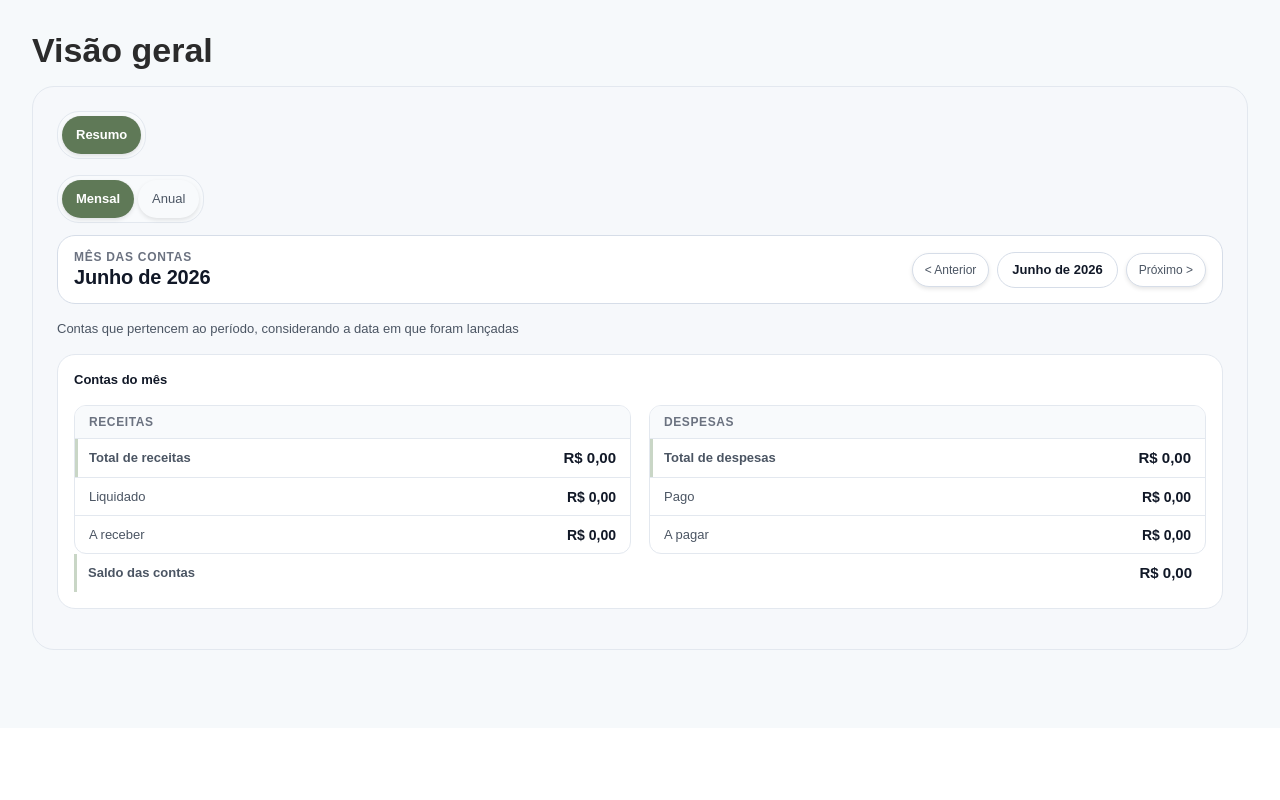
Financeiro - detalhe de receitas por paciente › preserva os períodos mensal e anual ao navegar entre anos
Expected: the heading "Contas do mês" is shown, left=74, top=371, right=167, bottom=389
Step 1. Click the button "Próximo >" → click(1166, 270), box left=1126, top=252, right=1206, bottom=286
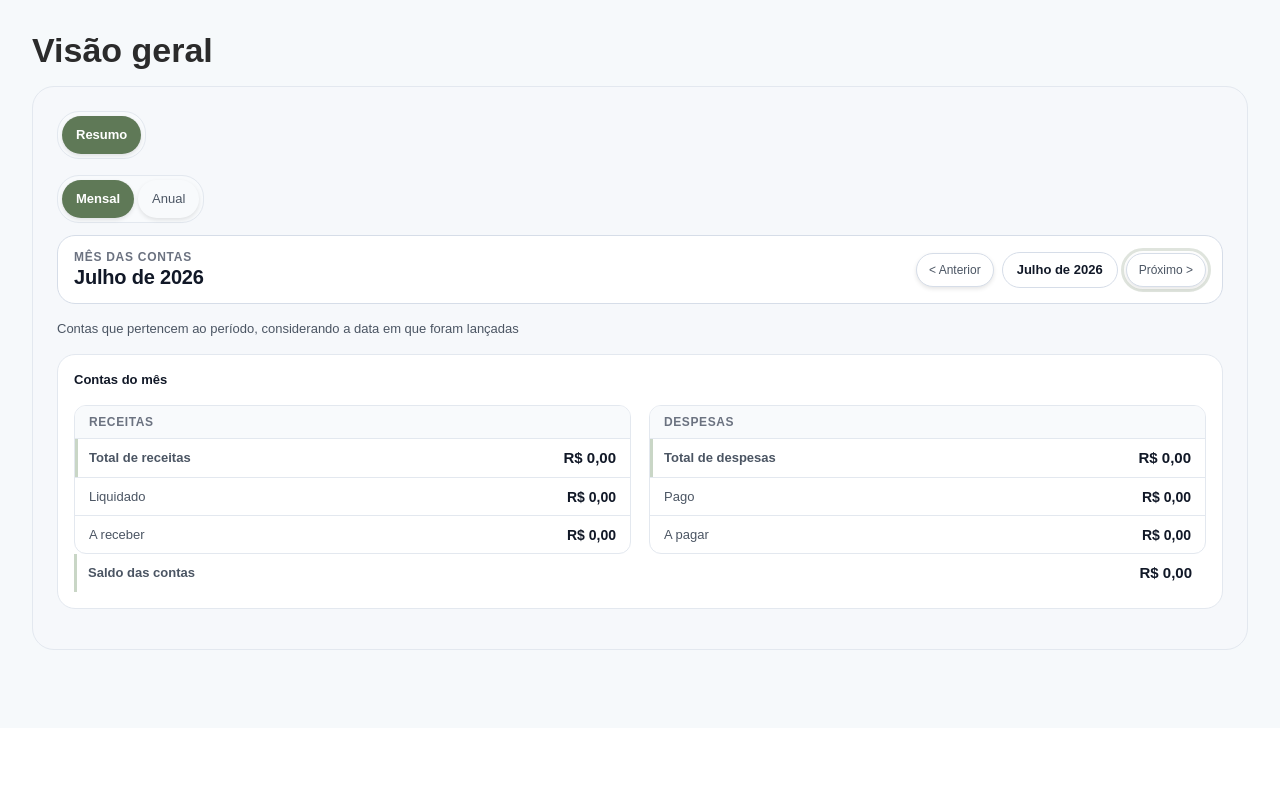
Step 2. Click the button "Anual" → click(169, 199), box left=138, top=180, right=199, bottom=218
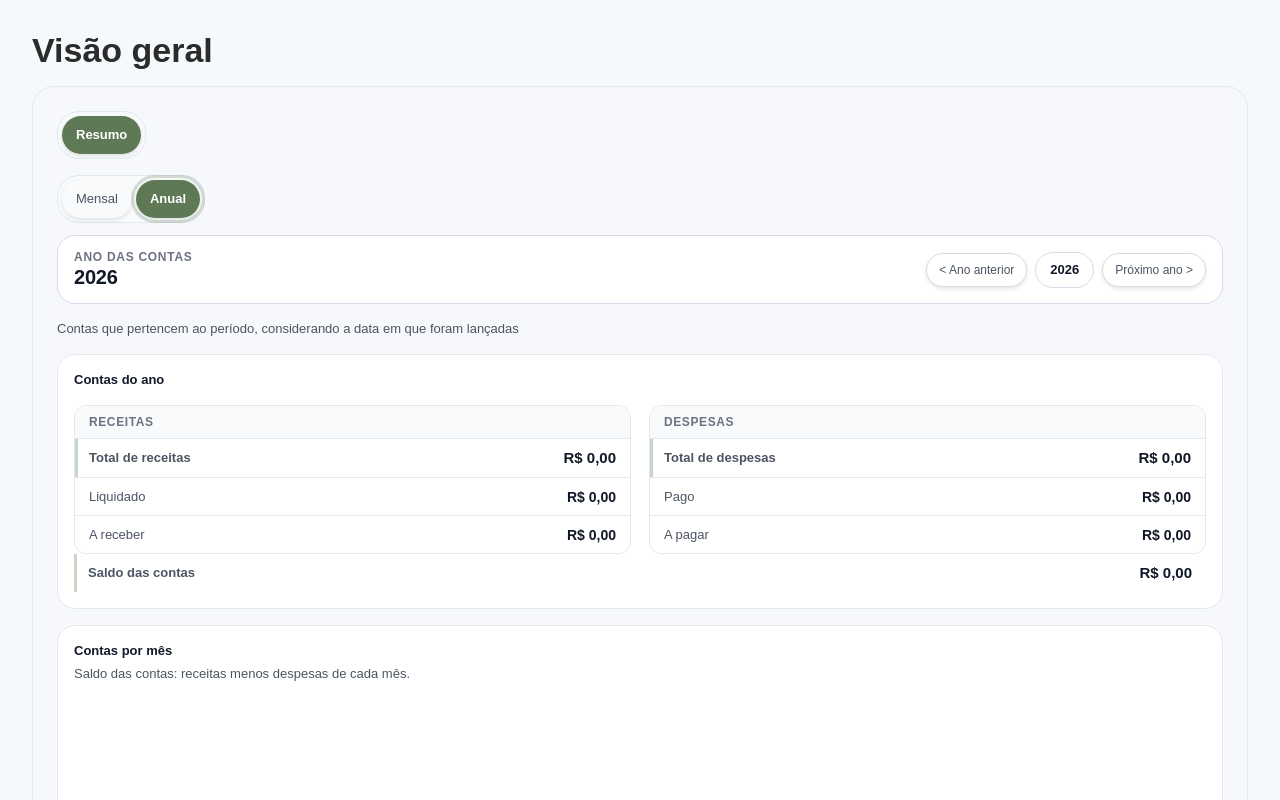
Result: the heading "Contas do ano" is shown at left=74, top=371, right=164, bottom=389
Step 3. Click the button "Próximo ano >" → click(1154, 270), box left=1102, top=252, right=1206, bottom=286
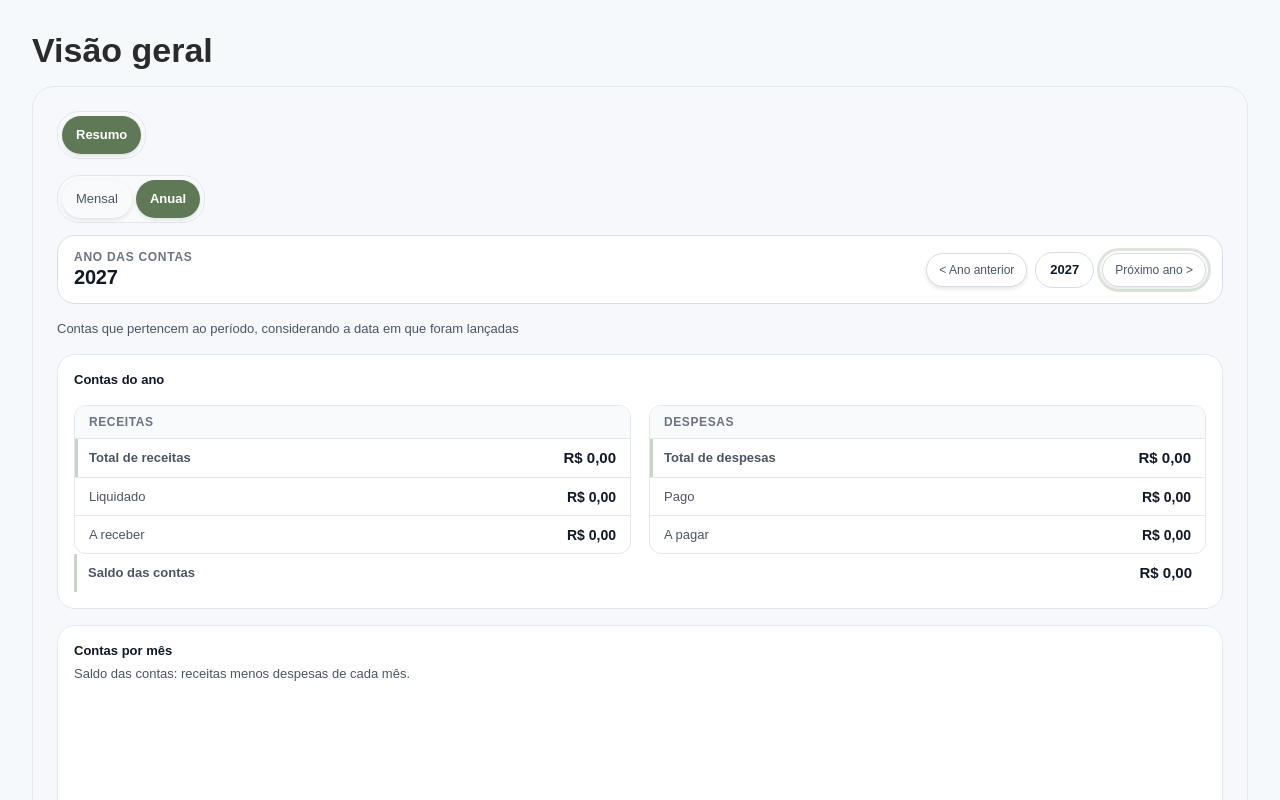
Step 4. Click the button "Mensal" → click(97, 199), box left=62, top=180, right=132, bottom=218
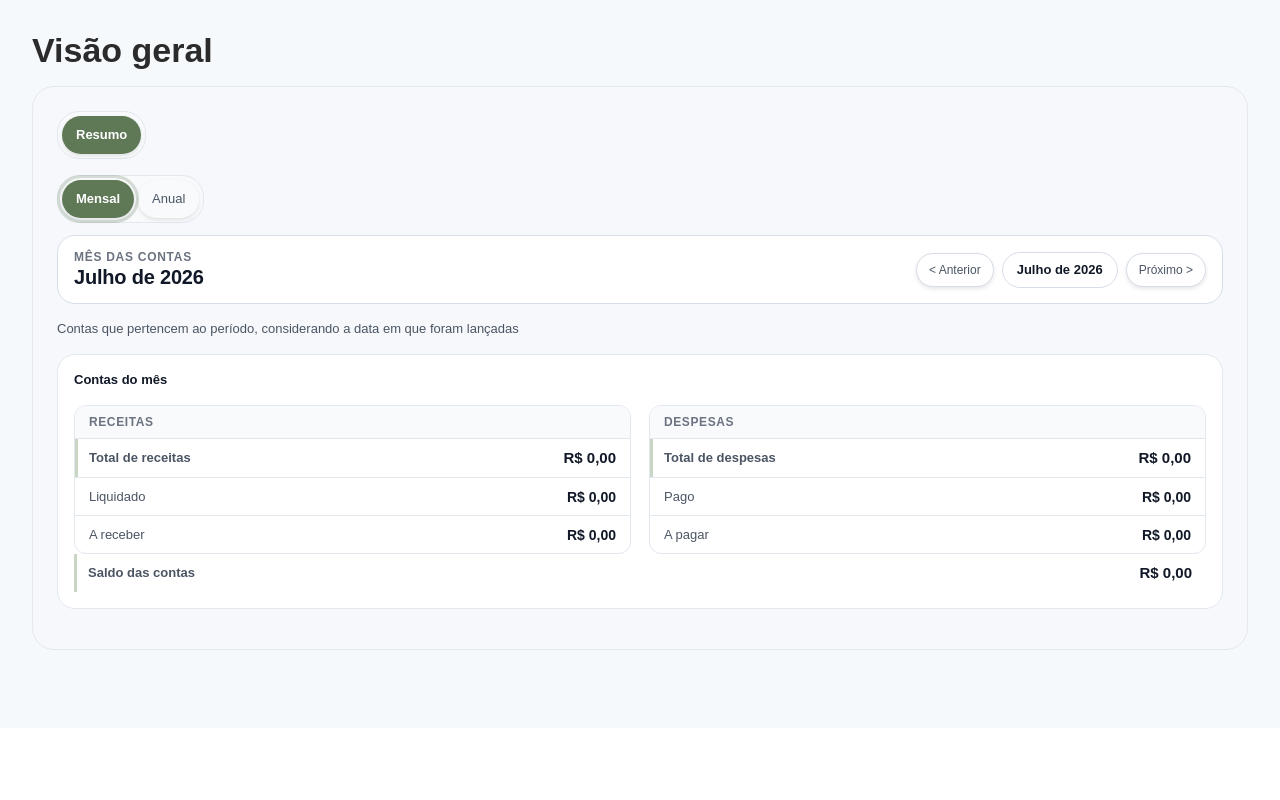
Expected: the button named "Selecionar mês e ano do Resumo" holds "2026-07", left=1002, top=252, right=1118, bottom=288
Result: the heading "Contas do mês" is shown at left=74, top=371, right=167, bottom=389
Step 5. Click the button "Anual" → click(169, 199), box left=138, top=180, right=199, bottom=218
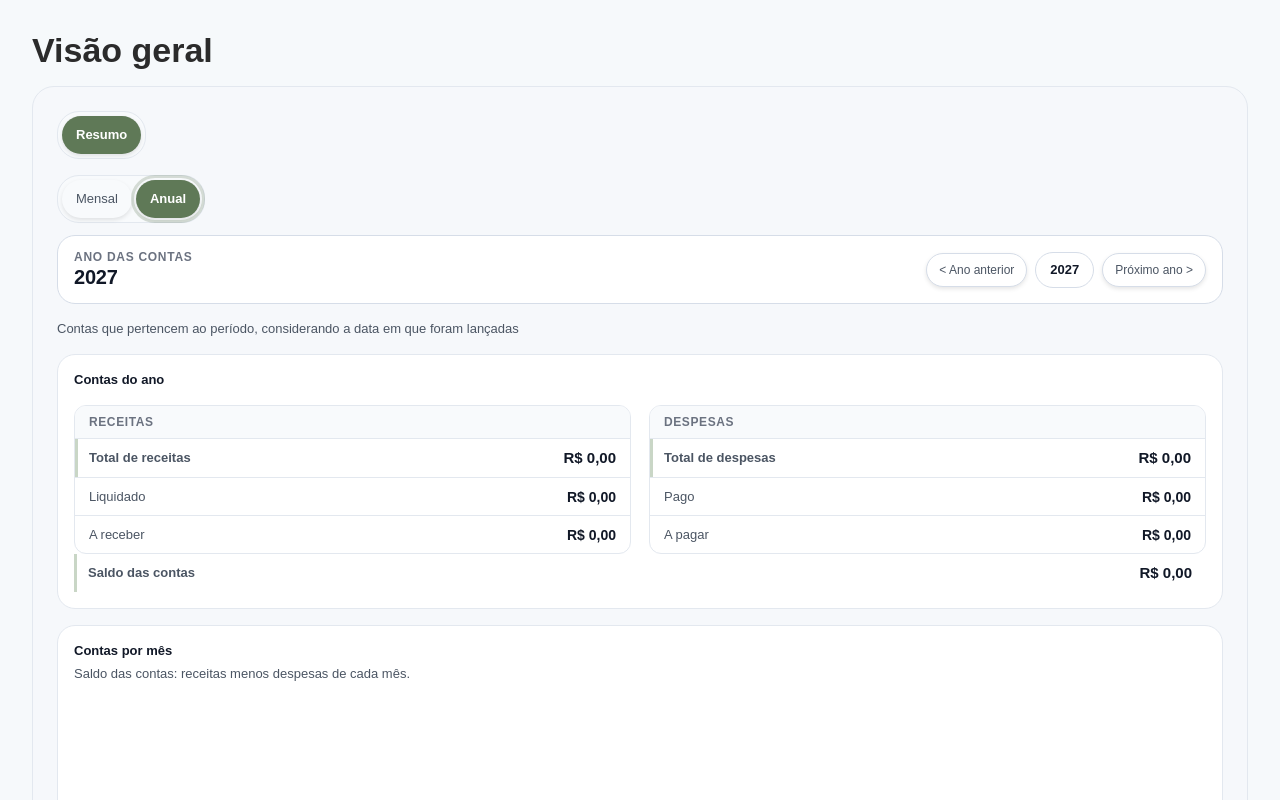
Result: the heading "Contas do ano" is shown at left=74, top=371, right=164, bottom=389
